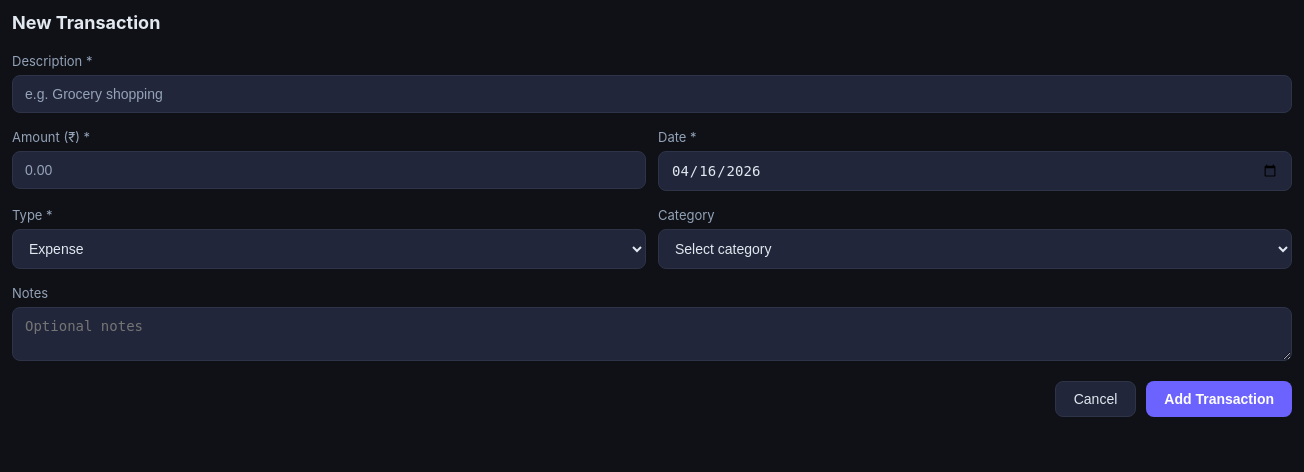
Test: TransactionForm › shows validation errors when submitting empty form
Click the button "Add Transaction" at (1219, 399), box [1146, 381, 1292, 417]
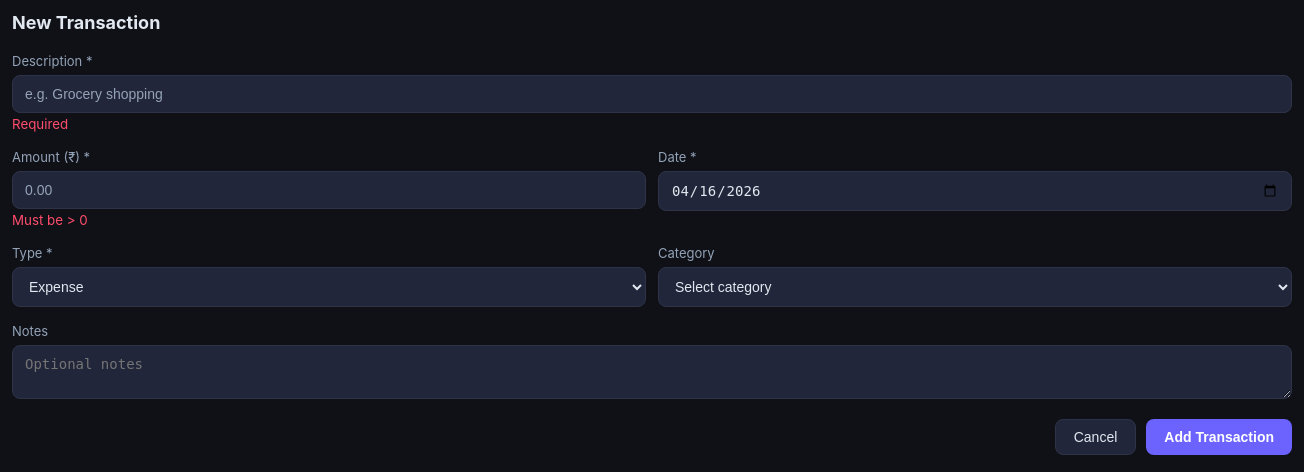
expect the text "Required" is shown: met, box [12, 116, 68, 132]
